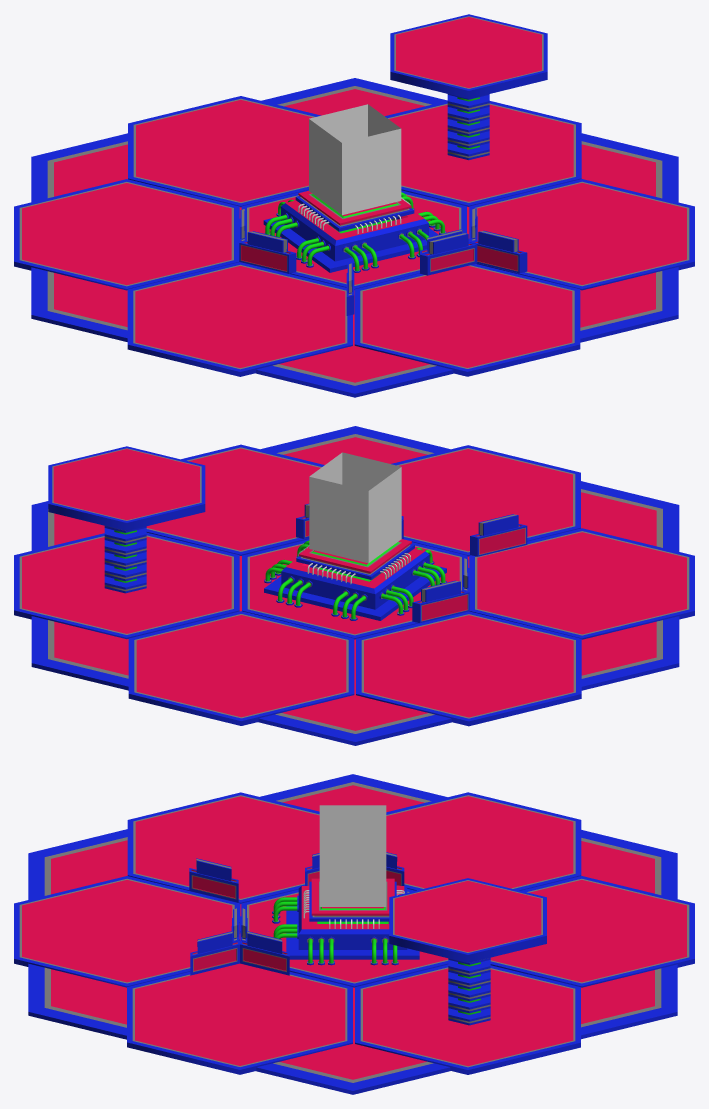
File: OS_Levels.fbx
The picture shows the model from 3 angles, top to bottom: view 1: azimuth 30°, elevation 25°; view 2: azimuth 150°, elevation 25°; view 3: azimuth 270°, elevation 25°; orthographic projection.
Parts seen in each view (by area): view 1: Cylinder008, Cylinder006, Cylinder005, Cylinder004, Cylinder007, Cylinder003, Cylinder002, Cylinder009, LightColumn, CPU_cradle, Cylinder001, CornerSegment002 (+3 smaller); view 2: Cylinder008, Cylinder003, Cylinder004, Cylinder005, Cylinder002, Cylinder006, Cylinder007, Cylinder009, LightColumn, Cylinder001, CPU_cradle, Column (+4 smaller); view 3: Cylinder008, Cylinder007, Cylinder006, Cylinder002, Cylinder004, Cylinder005, Cylinder003, Cylinder009, LightColumn, Cylinder001, CPU_cradle, CornerSegment002 (+4 smaller).
Boxes of the visible parts, bbox=[...] form: Cylinder008: bbox=[31, 78, 678, 397]; Cylinder006: bbox=[354, 264, 580, 376]; Cylinder005: bbox=[127, 262, 352, 376]; Cylinder004: bbox=[14, 179, 239, 290]; Cylinder007: bbox=[469, 179, 694, 290]; Cylinder003: bbox=[128, 96, 320, 207]; Cylinder002: bbox=[385, 101, 581, 206]; Cylinder009: bbox=[390, 14, 547, 98]; LightColumn: bbox=[309, 104, 401, 215]; CPU_cradle: bbox=[263, 200, 438, 272]; Cylinder001: bbox=[241, 190, 466, 289]; CornerSegment002: bbox=[420, 208, 527, 275]; Cylinder008: bbox=[31, 426, 679, 745]; Cylinder003: bbox=[128, 611, 354, 725]; Cylinder004: bbox=[356, 611, 581, 726]; Cylinder005: bbox=[469, 528, 694, 639]; Cylinder002: bbox=[14, 532, 239, 639]; Cylinder006: bbox=[391, 445, 580, 556]; Cylinder007: bbox=[146, 444, 324, 555]; Cylinder009: bbox=[48, 446, 205, 530]; LightColumn: bbox=[309, 452, 401, 563]; Cylinder001: bbox=[242, 539, 467, 639]; CPU_cradle: bbox=[264, 548, 446, 620]; Column: bbox=[104, 526, 146, 593]; Cylinder008: bbox=[28, 774, 677, 1094]; Cylinder007: bbox=[127, 963, 352, 1074]; Cylinder006: bbox=[14, 876, 240, 987]; Cylinder002: bbox=[355, 964, 580, 1074]; Cylinder004: bbox=[386, 792, 581, 890]; Cylinder005: bbox=[127, 792, 319, 903]; Cylinder003: bbox=[490, 876, 694, 987]; Cylinder009: bbox=[389, 878, 546, 962]; LightColumn: bbox=[319, 805, 386, 906]; Cylinder001: bbox=[241, 889, 448, 987]; CPU_cradle: bbox=[286, 886, 419, 959]; CornerSegment002: bbox=[190, 908, 289, 975].
Size of the model in its own units: 344 by 59.04 by 313.
